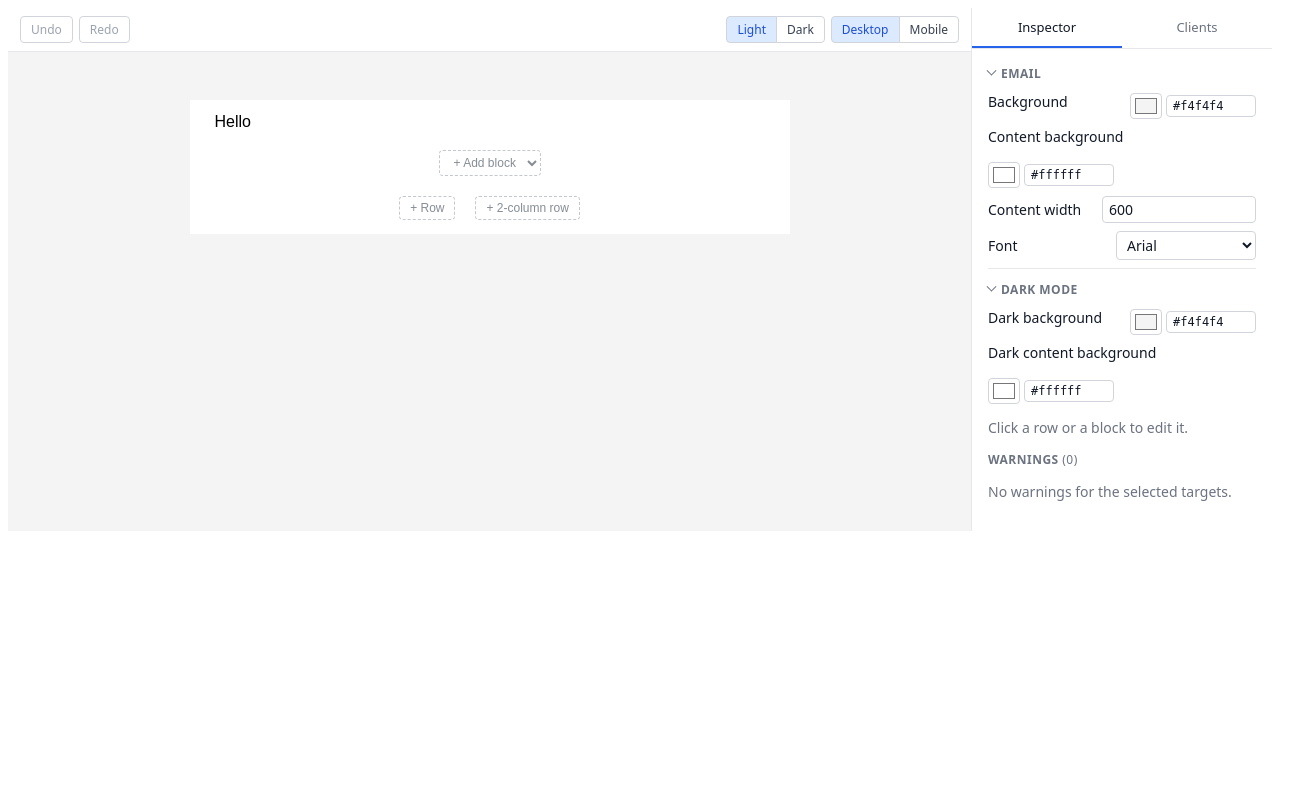
Scenario: <MailBlocks /> with button blocks › adds a button and changes its label from the inspector
The width and height of the screenshot is (1292, 798).
Select "Button" in the dropdown named "Add block". click: [490, 163]
box: [438,150,540,176]
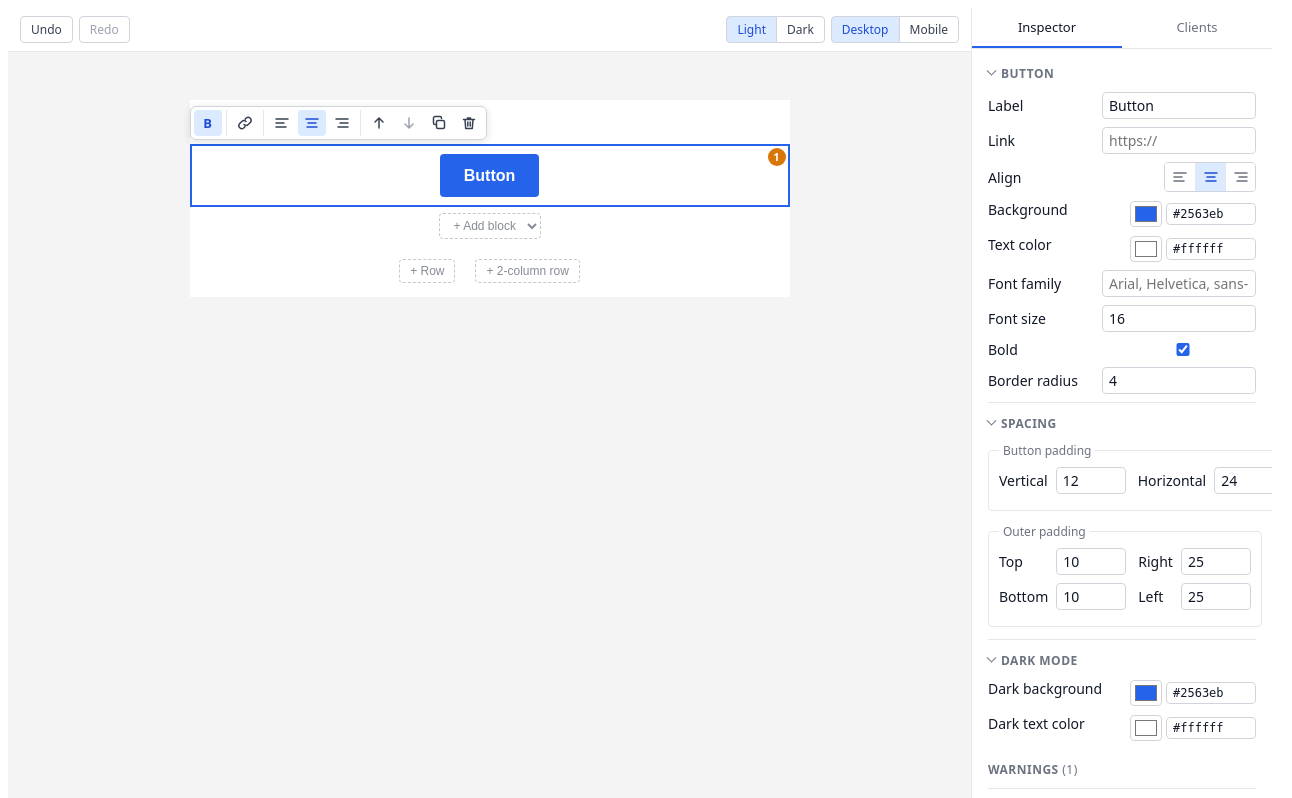
Replace the text in the field labelled "Label" with "Buy now". click: [1179, 106]
box: [1102,92,1256,119]
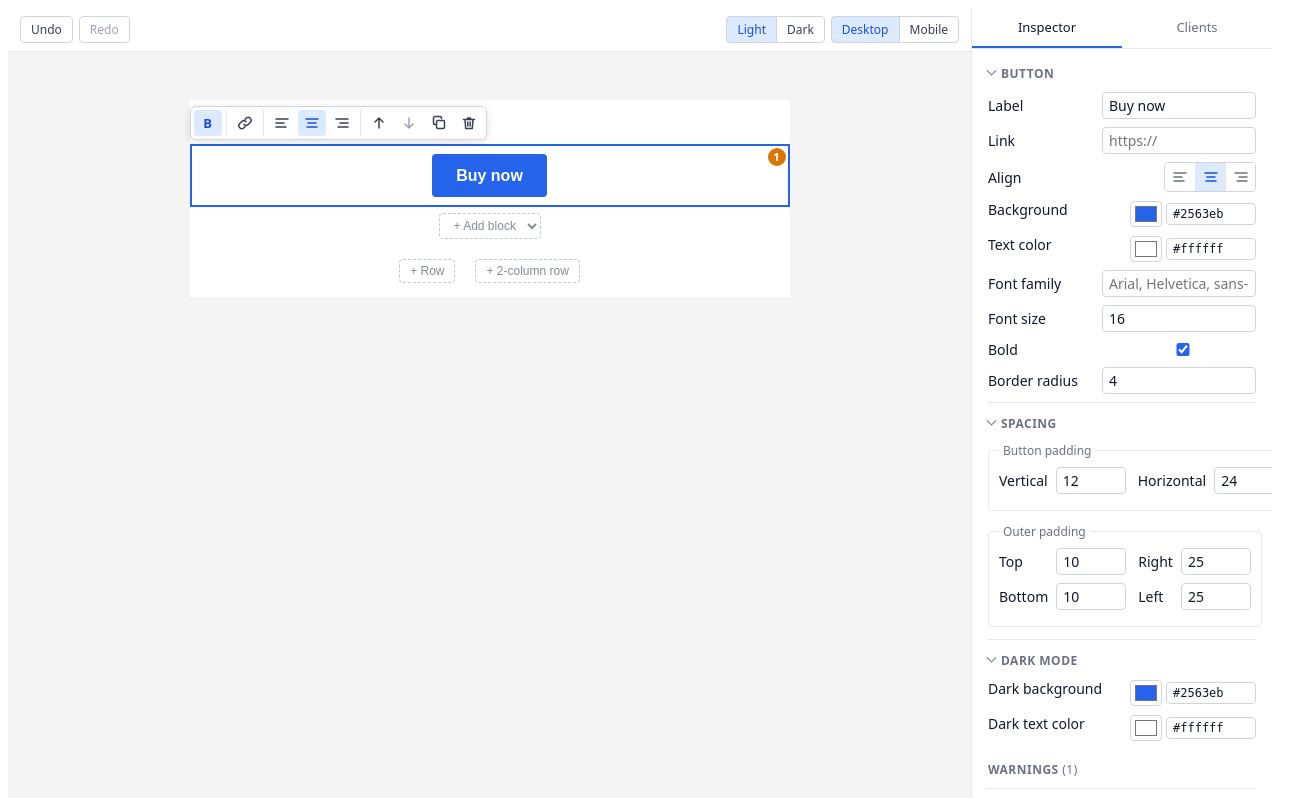
Check: the button "Buy now" is shown, box [432,154,547,197]
